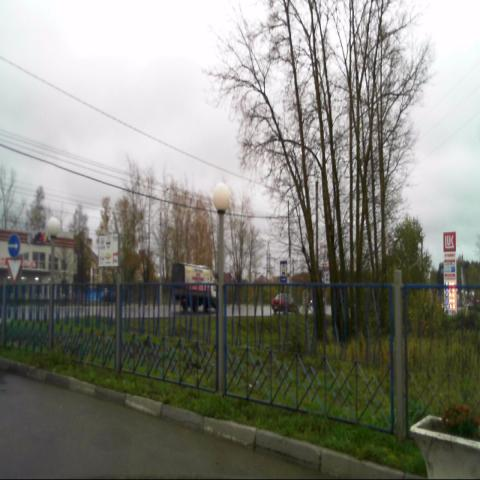2_4: (6, 256, 22, 283)
4_1_2_1: (6, 235, 20, 257)
7_5: (280, 256, 288, 282)
